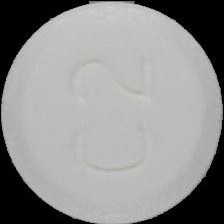54868-6237: (0, 0, 224, 224)
